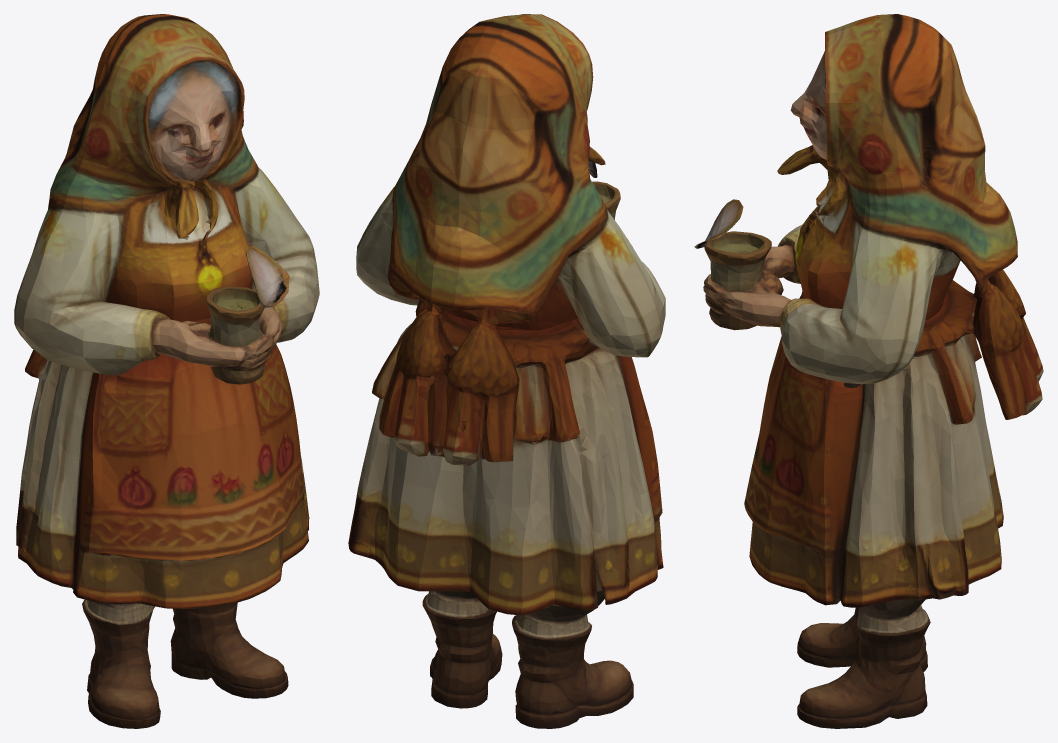
Rendered from VoEdna.glb.
The picture shows the model from 3 angles, left to right: view 1: azimuth 30°, elevation 25°; view 2: azimuth 150°, elevation 25°; view 3: azimuth 270°, elevation 25°; orthographic projection. The views are drawn at different scales.
Visible parts, largest first — view 1: world; view 2: world; view 3: world.
Boxes of the visible parts, x1,y1,x2,y2 form: world: (14,14,319,728); world: (348,14,665,728); world: (694,14,1043,728).
Size of the model in its own units: 0.4584 by 0.9994 by 0.4763.
Materials: 1 (1 with a texture image).
